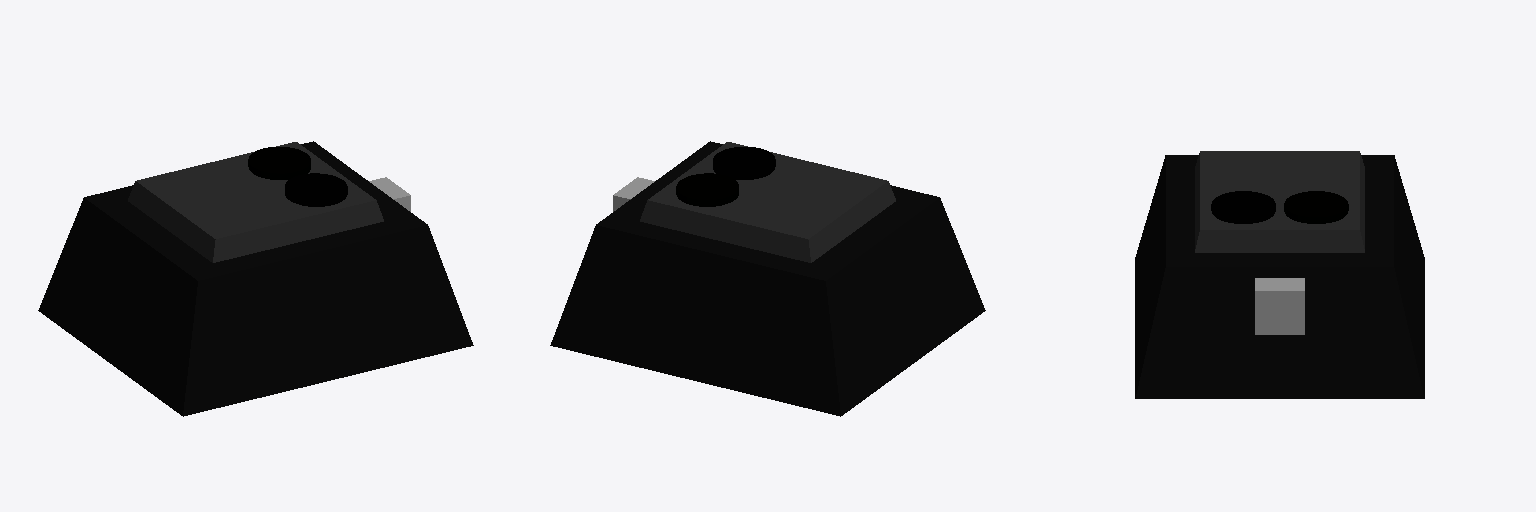
File: tigerpt.obj
3 renders of one model, left to right at view 1: azimuth 30°, elevation 25°; view 2: azimuth 150°, elevation 25°; view 3: azimuth 270°, elevation 25°, orthographic.
Visible parts, largest first — view 1: Cube.011_Cube.000; view 2: Cube.011_Cube.000; view 3: Cube.011_Cube.000.
Boxes of the visible parts, box(x1,y1,x2,y2) form: Cube.011_Cube.000: box(38, 141, 473, 416); Cube.011_Cube.000: box(550, 141, 985, 416); Cube.011_Cube.000: box(1135, 151, 1424, 398).
Size of the model in its own units: 6.05 by 2.87 by 5.21.